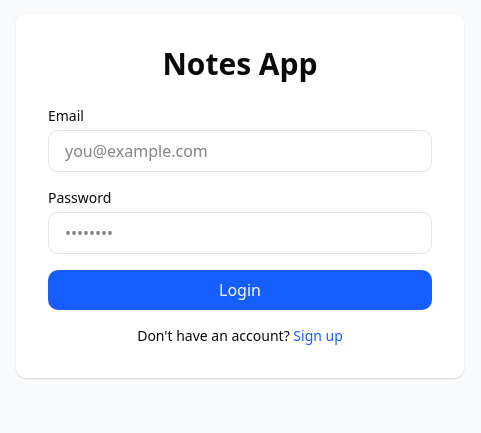
Scenario: LoginPage › displays error message on login failure
In the field with placeholder "you@example.com": (240, 151) x1=48 y1=130 x2=432 y2=172, type "test@example.com"
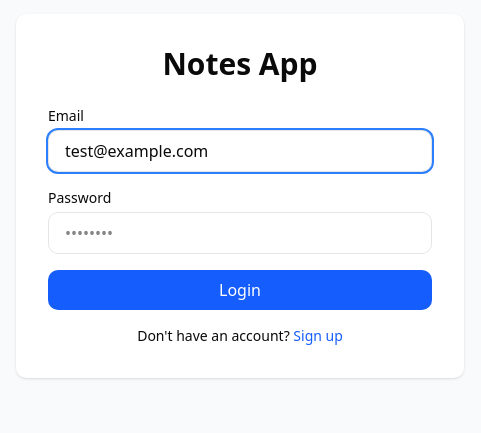
In the password field with placeholder "••••••••": (240, 233) x1=48 y1=212 x2=432 y2=254, type "wrongpassword"
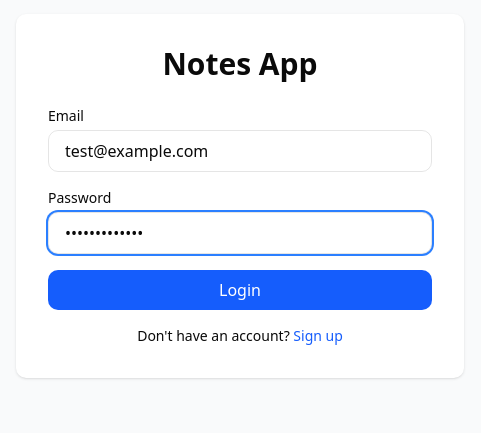
Click the button "Login": (240, 290) x1=48 y1=270 x2=432 y2=310
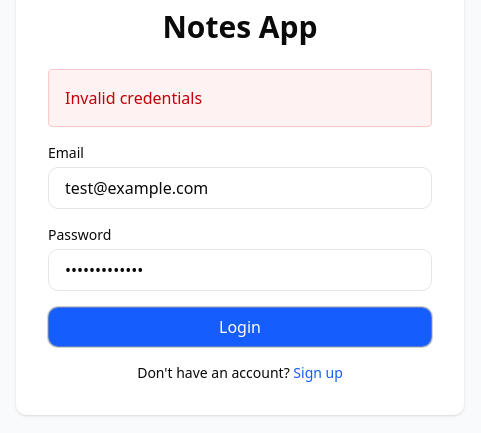
Expected: the text "Invalid credentials" is shown, x1=48 y1=69 x2=432 y2=127
